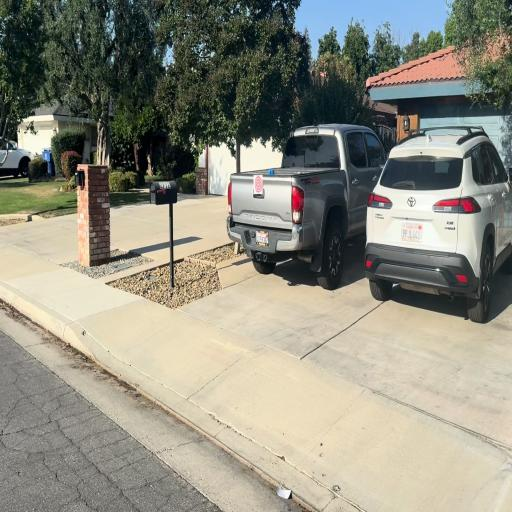bullseye: (254, 175, 263, 195)
